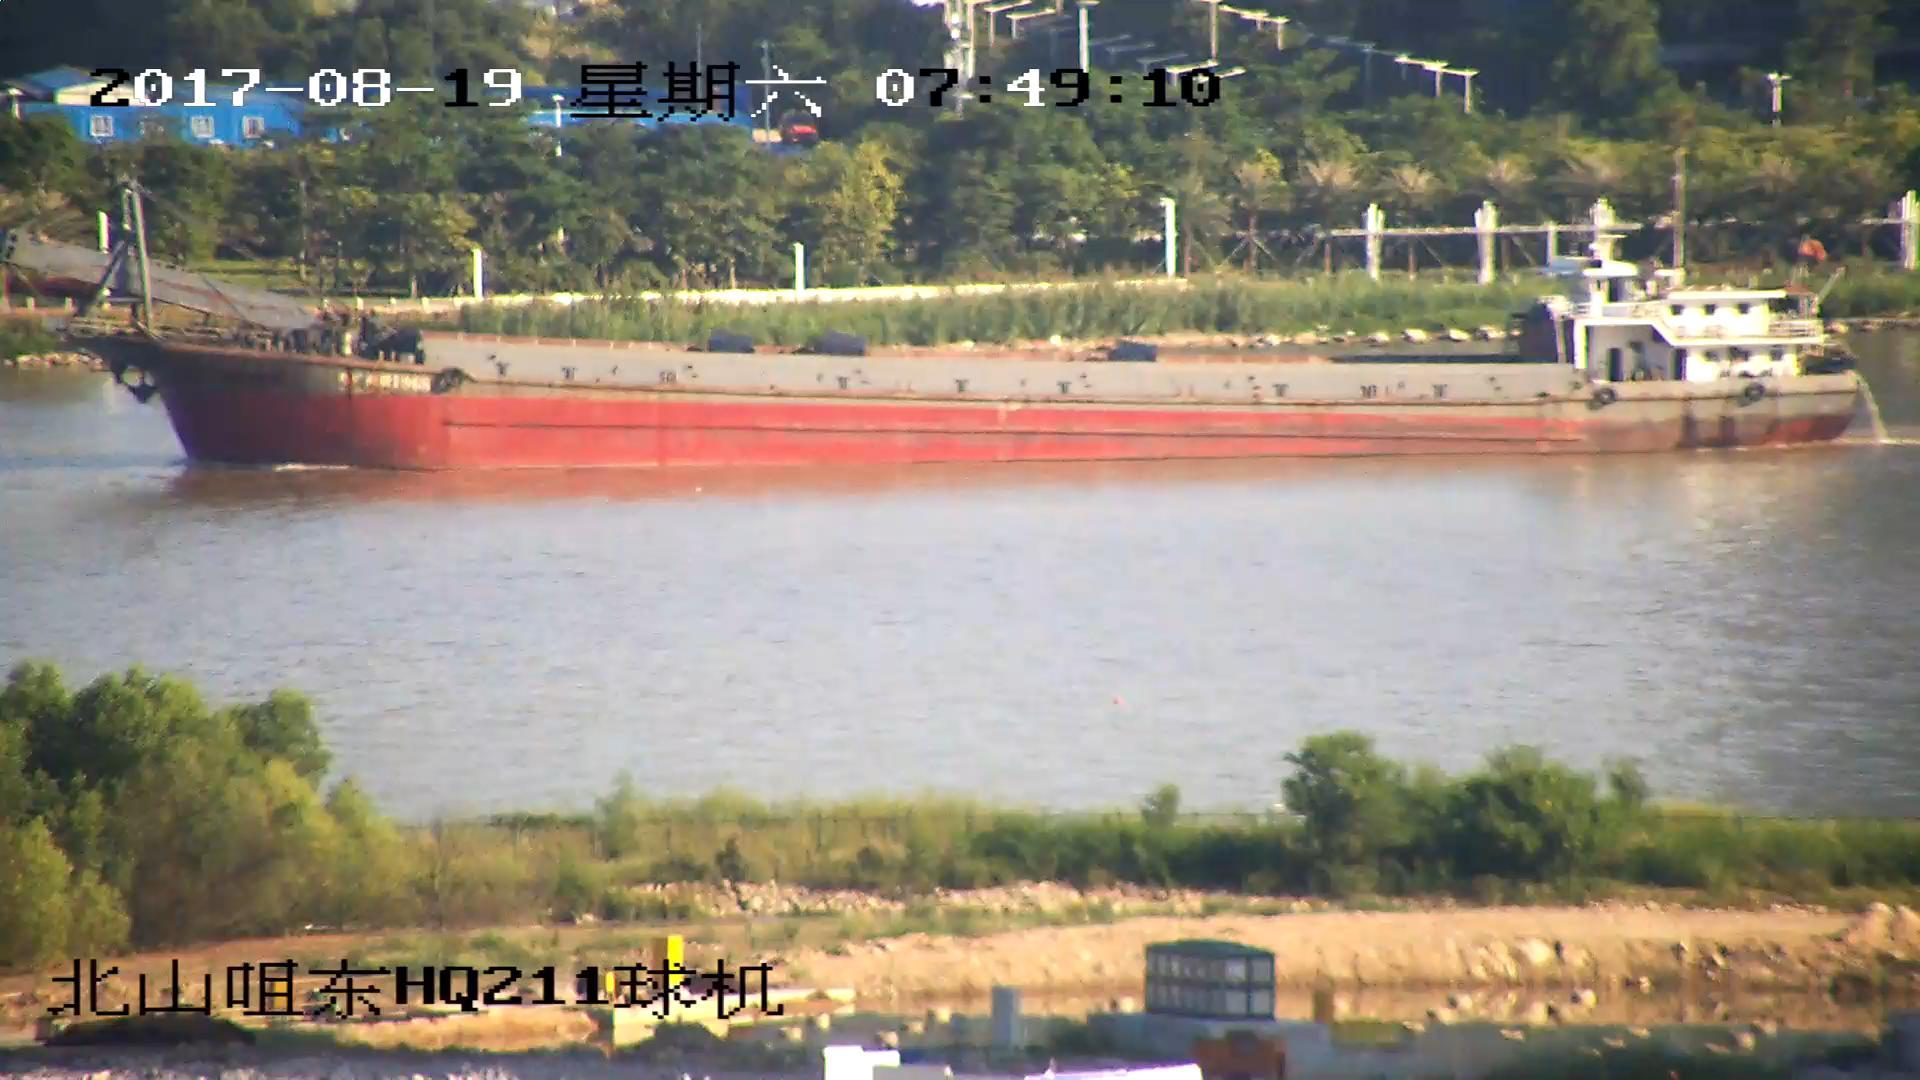Ship: (3, 185, 1866, 469)
